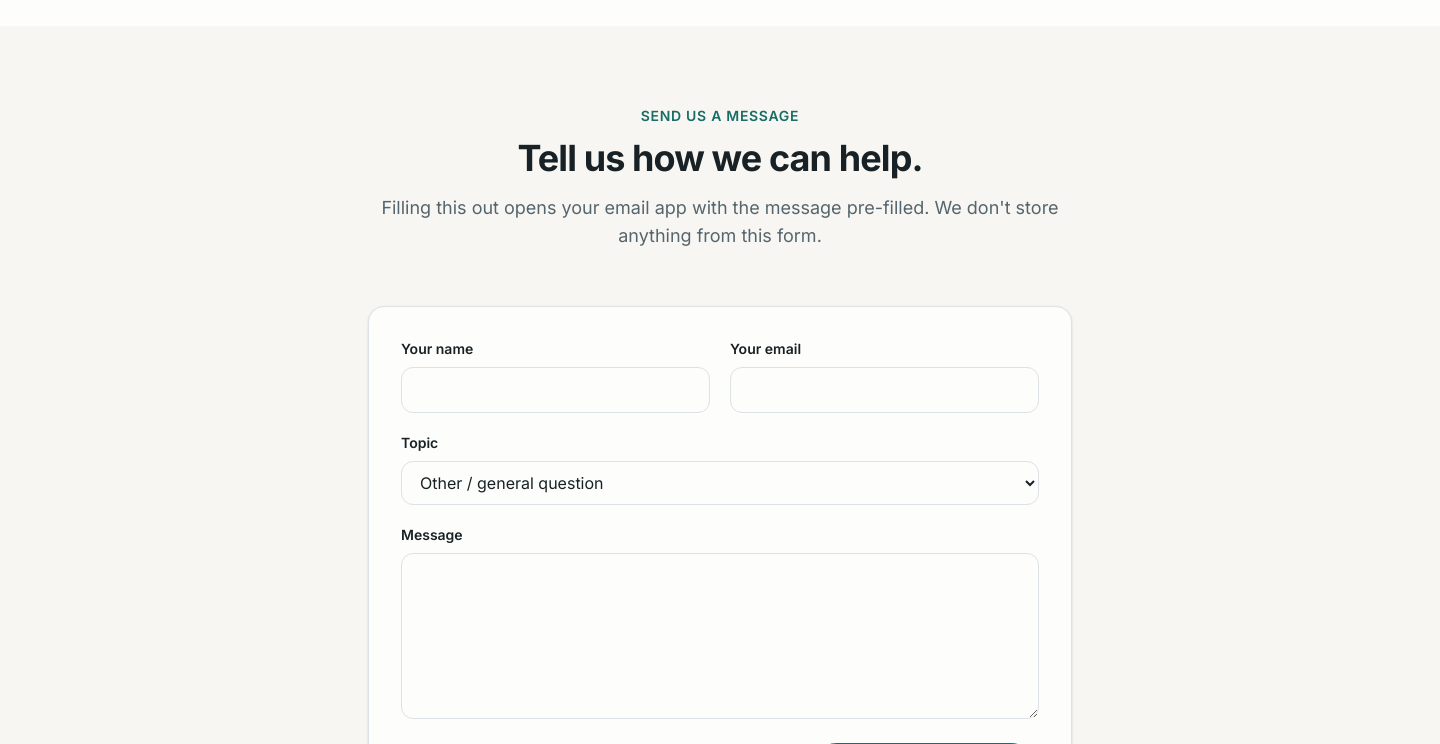
Contact page — mailto form validation › flags an invalid email when name + message are filled
(page scrolled)
Type "Avery Donor" into the field labelled "Your name" at (556, 390), box top-left (401, 367), bottom-right (710, 413)
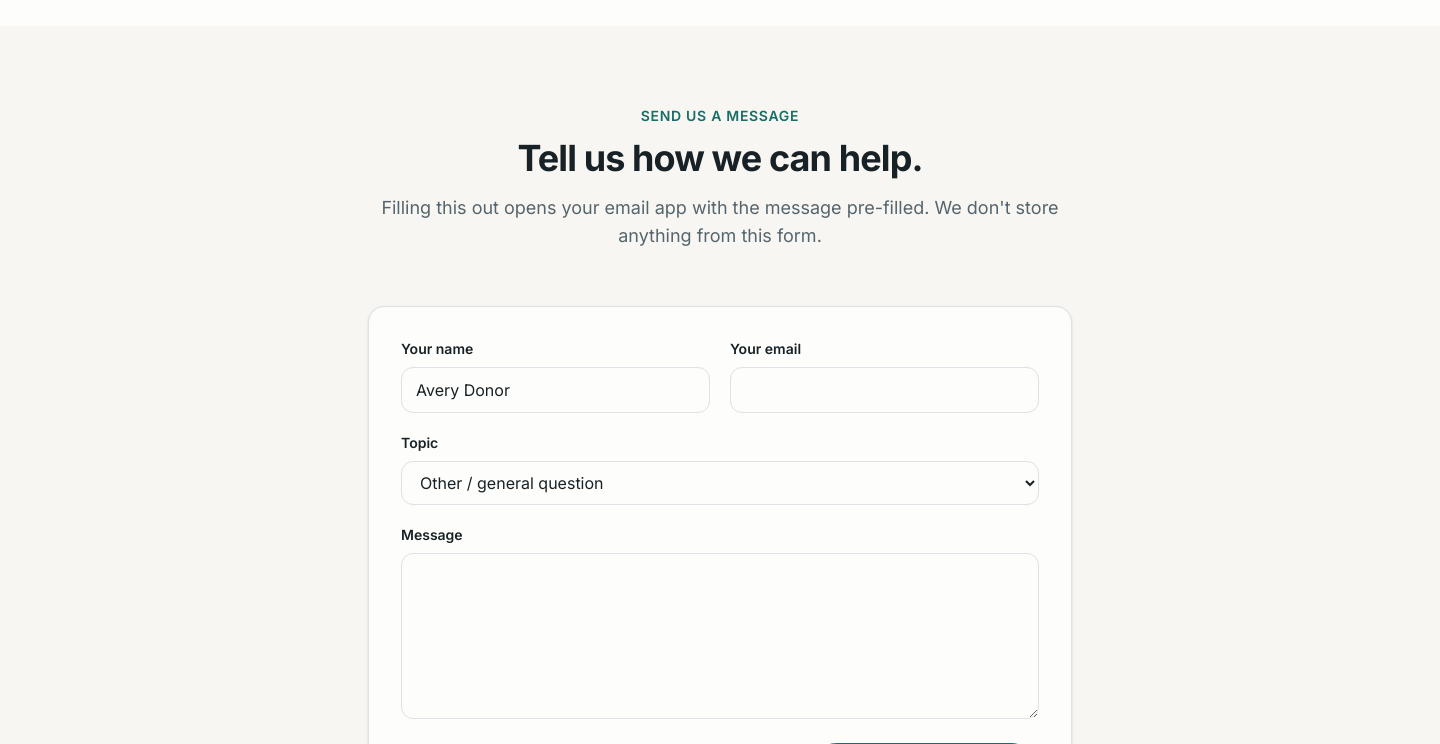
Type "not-an-email" into the field labelled "Your email" at (884, 390), box top-left (730, 367), bottom-right (1039, 413)
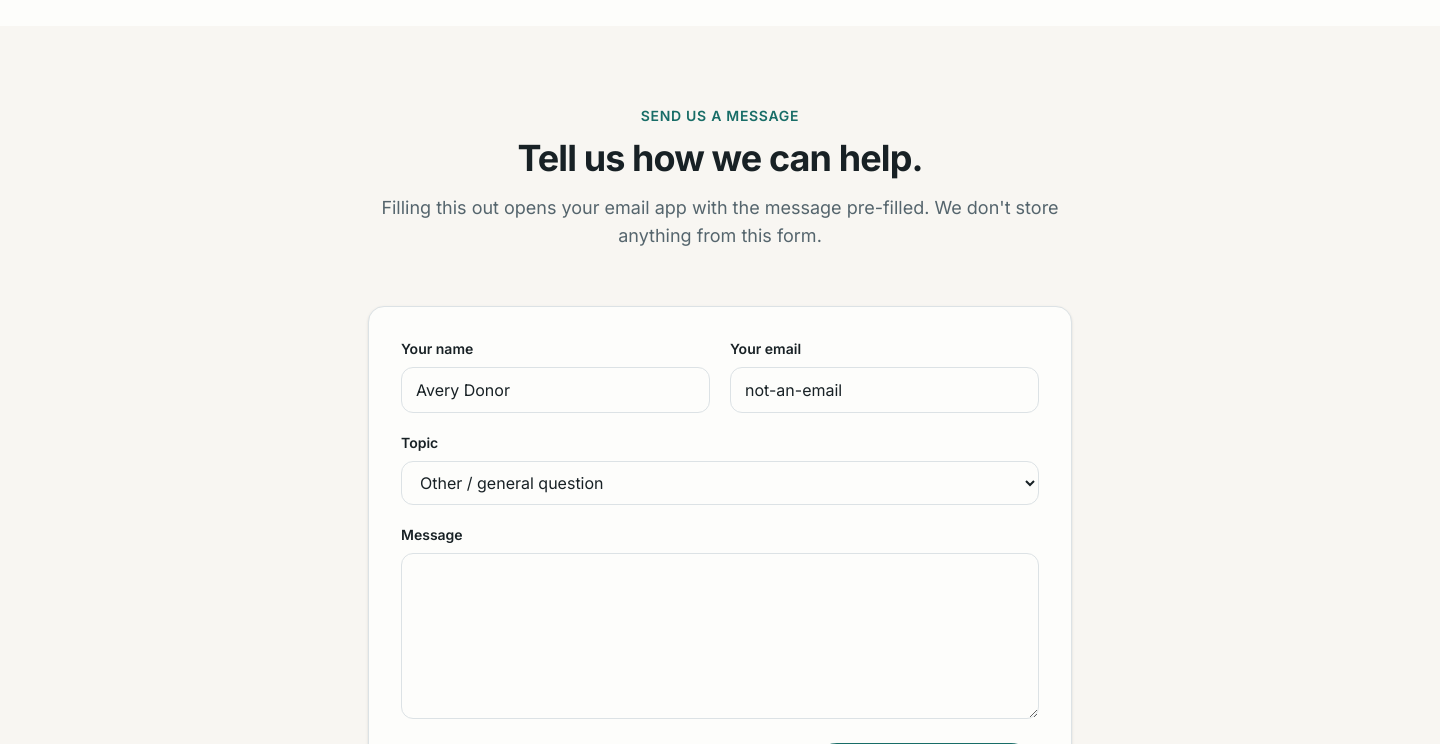
Type "Hello there." into the text box labelled "Message" at (720, 636), box top-left (401, 553), bottom-right (1039, 719)
(page scrolled)
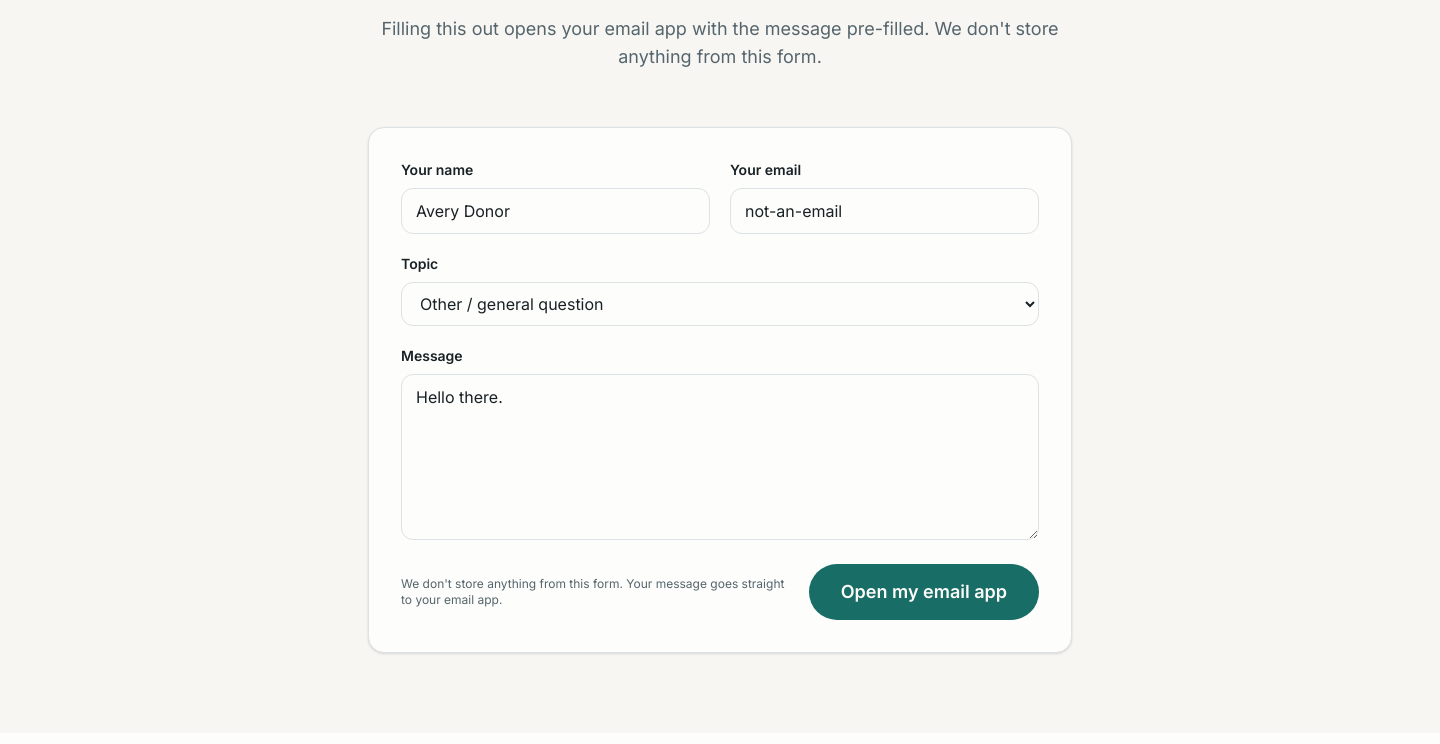
Submit the form with test id "contact-form", box top-left (401, 160), bottom-right (1039, 620)
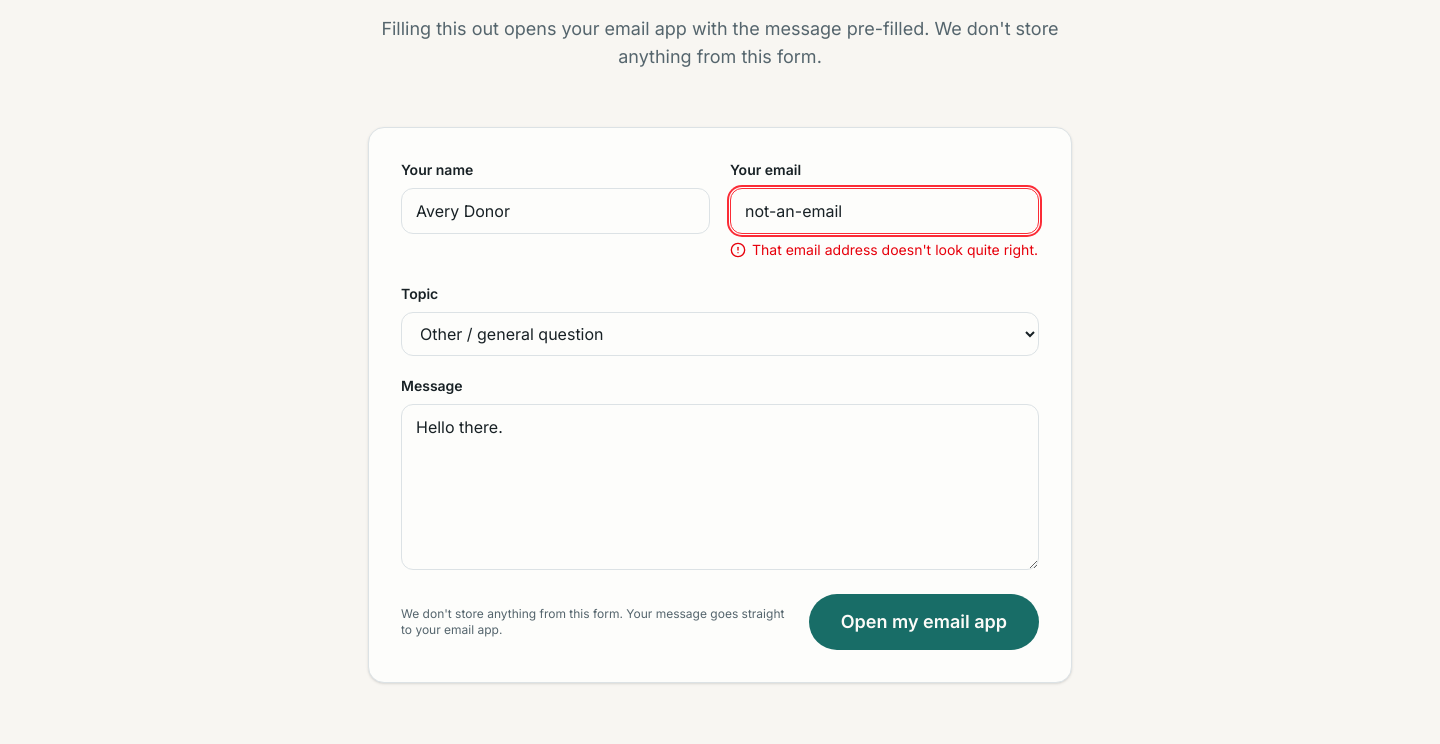
Check: the text "That email address doesn't look quite right." is shown, box top-left (730, 240), bottom-right (1038, 260)
